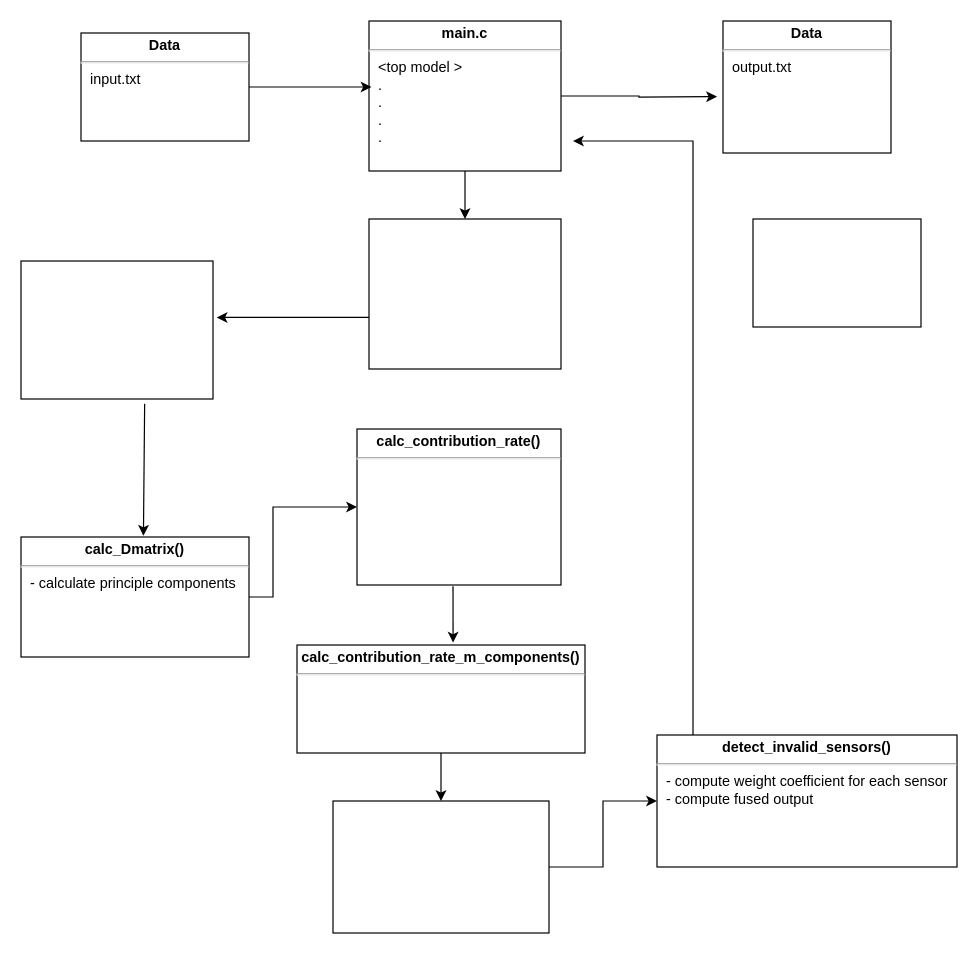
Some shapes in this 978 by 954 pixel diagram are drawn without their labels. Here are the shapes that lost their labels. From the top down, the centre of each, then its label:
the point at 836,272: include <other header files>
the point at 464,293: fusion_algo.h <call various tasks> . . . .
the point at 116,329: calc_support_deg_matrix() - calculate eigen values - calculate Eigen vector
the point at 440,866: calc_support_degree_score()
